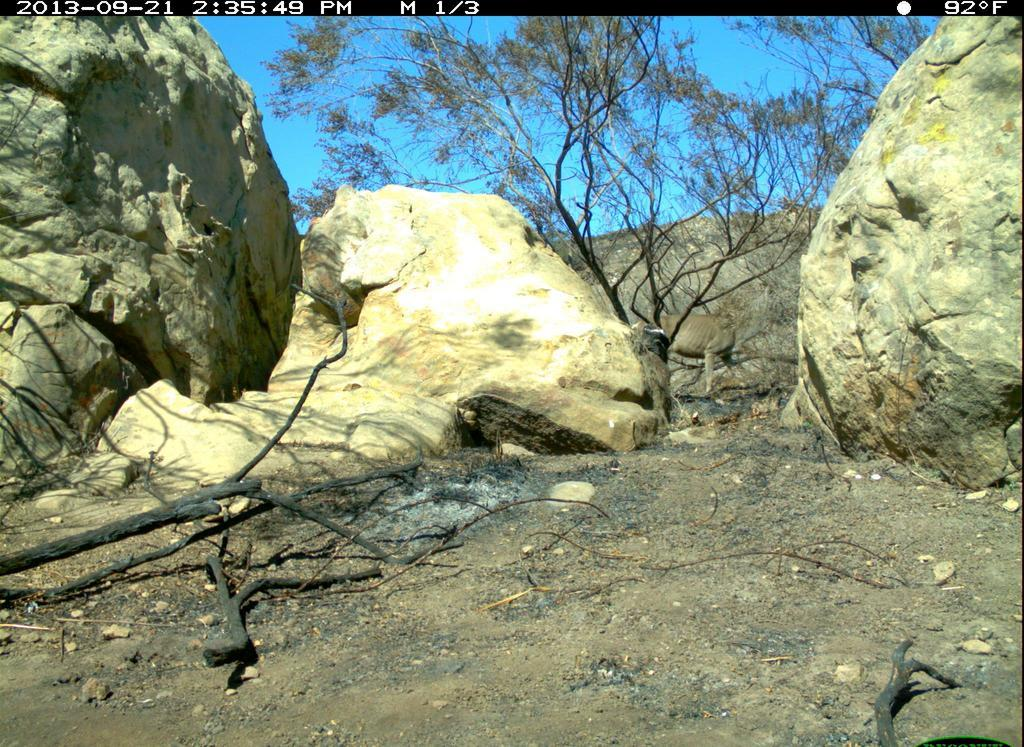deer: (657, 313, 756, 404)
